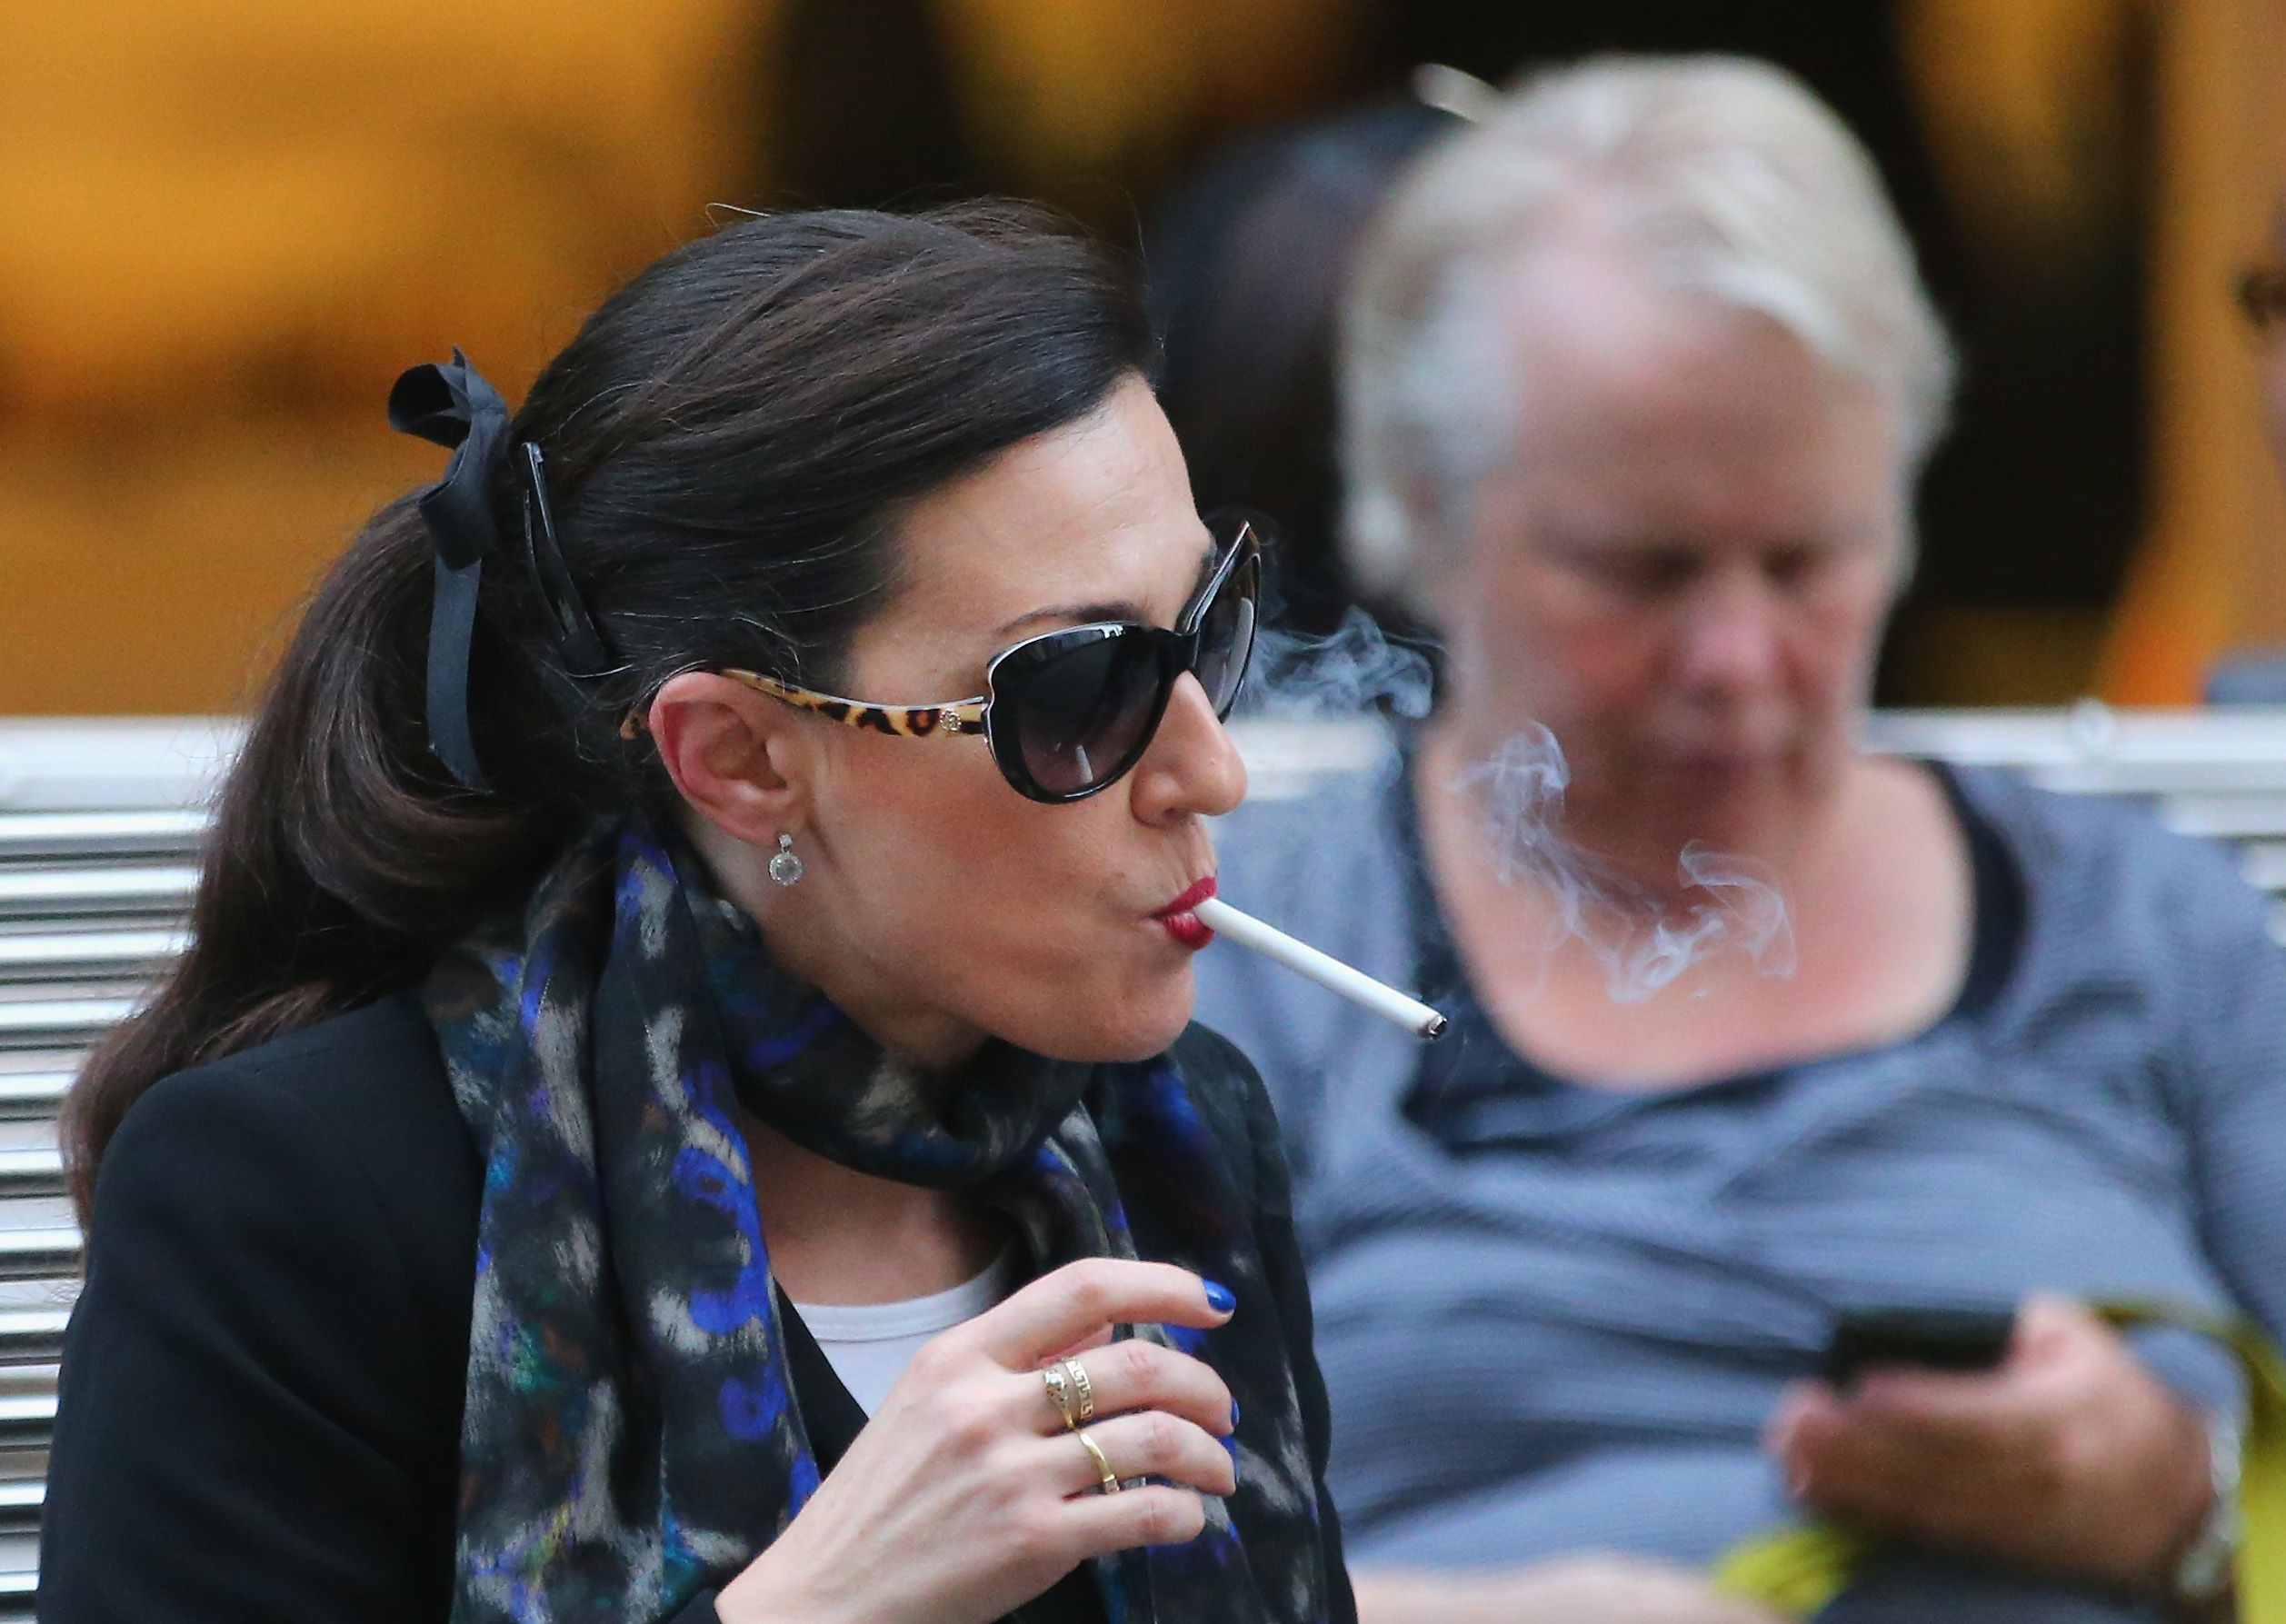cigarette: (1156, 861, 1476, 1065)
